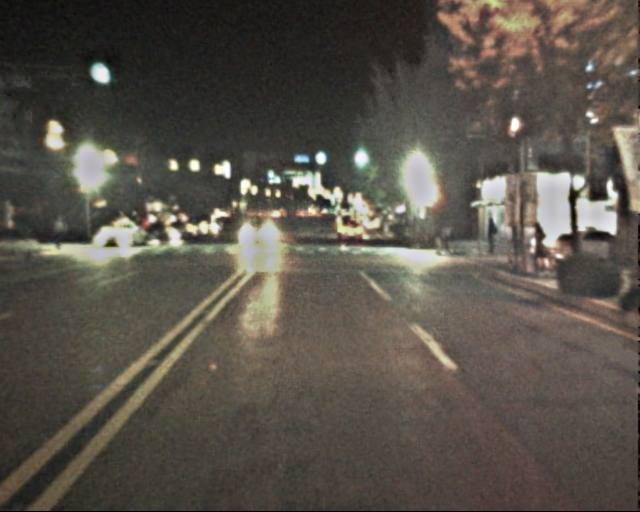person: (527, 222, 550, 277), (483, 216, 500, 257)
